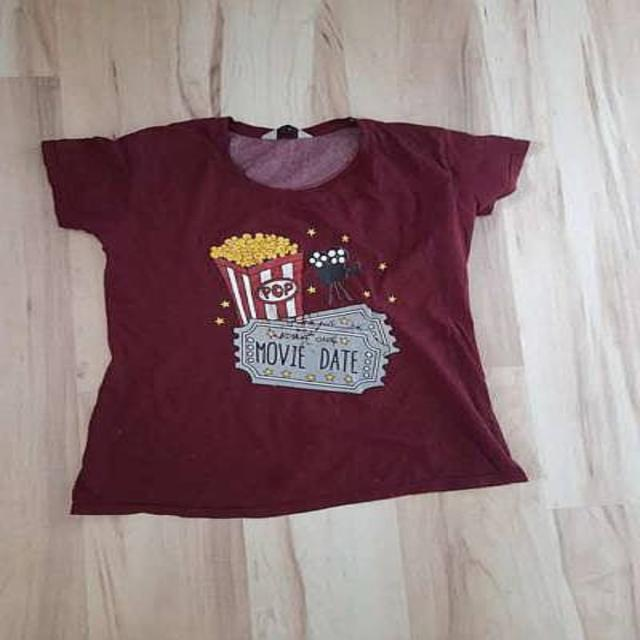T_SHIRT: (35, 106, 568, 526)
